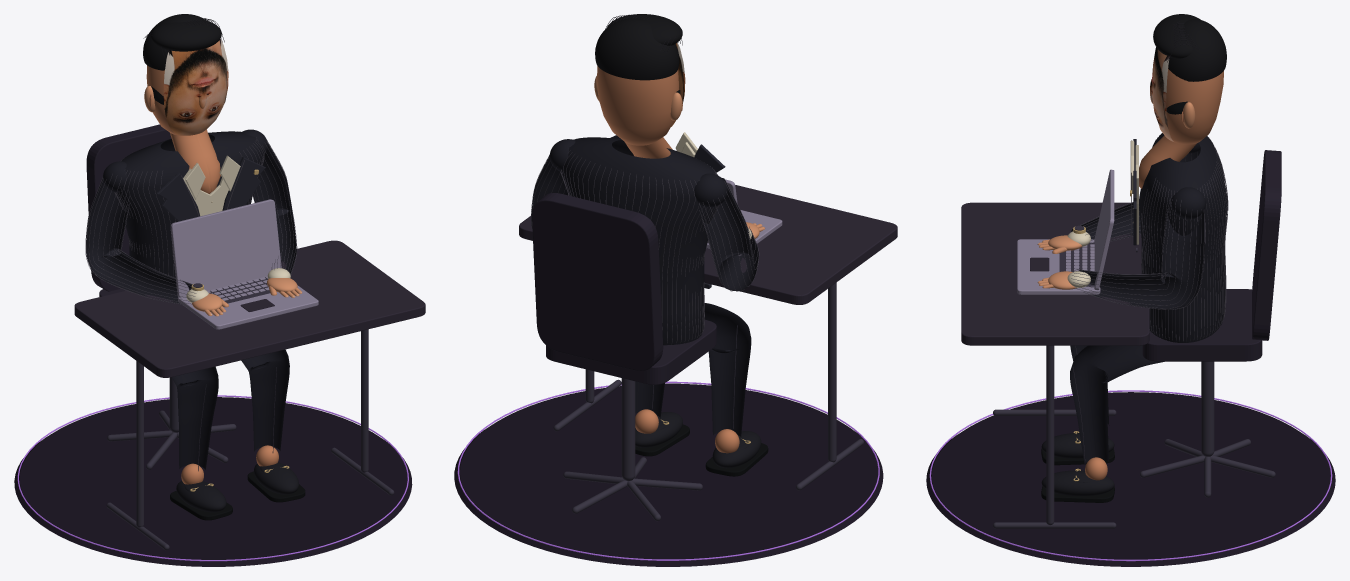
The model's file is atta-avatar.glb.
The picture shows the model from 3 angles, left to right: view 1: azimuth 30°, elevation 25°; view 2: azimuth 150°, elevation 25°; view 3: azimuth 270°, elevation 25°; orthographic projection. The views are drawn at different scales.
Visible parts, largest first — view 1: Sculpted studio plinth, Minimal floating workstation, Laptop sculpted display shell, Shaped tailored jacket, Continuous tailored sleeve (×2), Continuous tailored trouser (×2), Curved reference face surface, Curved upholstered chair back, Continuous tailored sleeve woven pinstripes (×2), Slender desk leg (×2), Sculpted notched jacket lapel (×2), Laptop aluminium base (+12 smaller); view 2: Sculpted studio plinth, Curved upholstered chair back, Shaped tailored jacket, Minimal floating workstation, Continuous tailored trouser (×2), Continuous sculpted head, Continuous tailored sleeve (×2), Short side fade and crown, Upholstered chair seat, Continuous fine jacket pinstripes, Loafer last (×2), Thin lavender plinth rim (+9 smaller); view 3: Sculpted studio plinth, Minimal floating workstation, Shaped tailored jacket, Continuous tailored sleeve (×2), Continuous tailored trouser, Upholstered chair seat, Curved upholstered chair back, Continuous fine jacket pinstripes, Continuous sculpted head, Short side fade and crown, Loafer last (×2), Laptop aluminium base (+12 smaller).
Part boxes in pixels (x1,y1,x2,y2): Sculpted studio plinth: [14, 397, 412, 566]; Minimal floating workstation: [74, 240, 425, 377]; Laptop sculpted display shell: [170, 199, 281, 298]; Shaped tailored jacket: [116, 131, 264, 277]; Continuous tailored sleeve (×2): [86, 142, 296, 303]; Continuous tailored trouser (×2): [172, 349, 289, 469]; Curved reference face surface: [163, 38, 228, 135]; Curved upholstered chair back: [86, 124, 171, 291]; Continuous tailored sleeve woven pinstripes (×2): [85, 137, 297, 304]; Slender desk leg (×2): [136, 329, 368, 527]; Sculpted notched jacket lapel (×2): [157, 157, 265, 221]; Laptop aluminium base: [178, 285, 318, 329]; Sculpted studio plinth: [454, 383, 883, 566]; Curved upholstered chair back: [532, 193, 663, 370]; Shaped tailored jacket: [562, 137, 717, 345]; Minimal floating workstation: [519, 185, 897, 304]; Continuous tailored trouser (×2): [635, 303, 751, 436]; Continuous sculpted head: [597, 66, 678, 145]; Continuous tailored sleeve (×2): [531, 156, 758, 290]; Short side fade and crown: [595, 18, 679, 80]; Upholstered chair seat: [546, 319, 716, 384]; Continuous fine jacket pinstripes: [560, 150, 719, 344]; Loafer last (×2): [635, 412, 761, 468]; Thin lavender plinth rim: [457, 381, 879, 560]; Sculpted studio plinth: [926, 392, 1335, 566]; Minimal floating workstation: [961, 202, 1149, 345]; Shaped tailored jacket: [1139, 133, 1227, 342]; Continuous tailored sleeve (×2): [1071, 202, 1204, 309]; Continuous tailored trouser: [1070, 345, 1164, 464]; Upholstered chair seat: [1142, 289, 1262, 361]; Curved upholstered chair back: [1252, 150, 1281, 340]; Continuous fine jacket pinstripes: [1141, 133, 1228, 341]; Continuous sculpted head: [1166, 68, 1223, 144]; Short side fade and crown: [1168, 19, 1226, 81]; Loafer last (×2): [1041, 433, 1114, 495]; Laptop aluminium base: [1017, 239, 1100, 294].
Size of the model in its own units: 1.41 by 1.73 by 1.41.
Materials: 23 (1 with a texture image).
